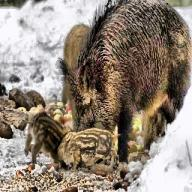boar: (58, 0, 191, 162)
